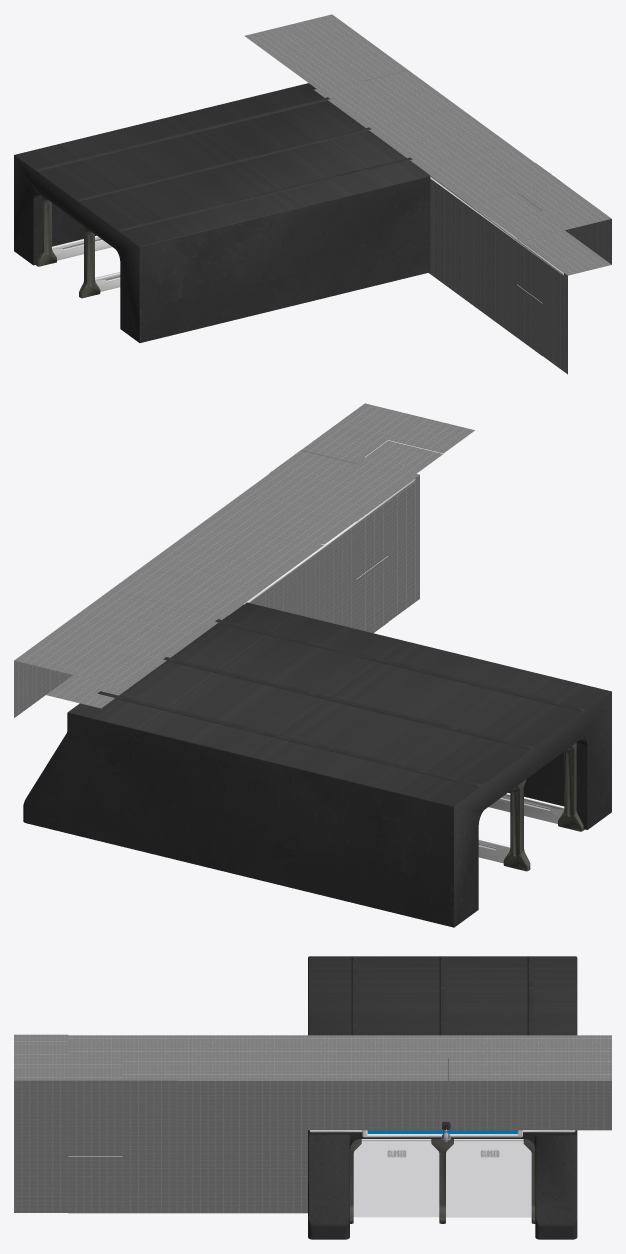
The model's file is Wall.gltf.
The picture shows the model from 3 angles, top to bottom: view 1: azimuth 30°, elevation 25°; view 2: azimuth 150°, elevation 25°; view 3: azimuth 270°, elevation 25°; orthographic projection. The views are drawn at different scales.
Visible parts, largest first — view 1: SM_Wall_3x3_01__53_; view 2: SM_Wall_3x3_01__53_; view 3: SM_Wall_3x3_01__53_.
Part boxes in pixels (x1,y1,x2,y2): SM_Wall_3x3_01__53_: [14, 14, 611, 374]; SM_Wall_3x3_01__53_: [14, 403, 611, 927]; SM_Wall_3x3_01__53_: [14, 956, 611, 1239].
Bounding box in the file's own units: 28.59 × 11.47 × 40.
